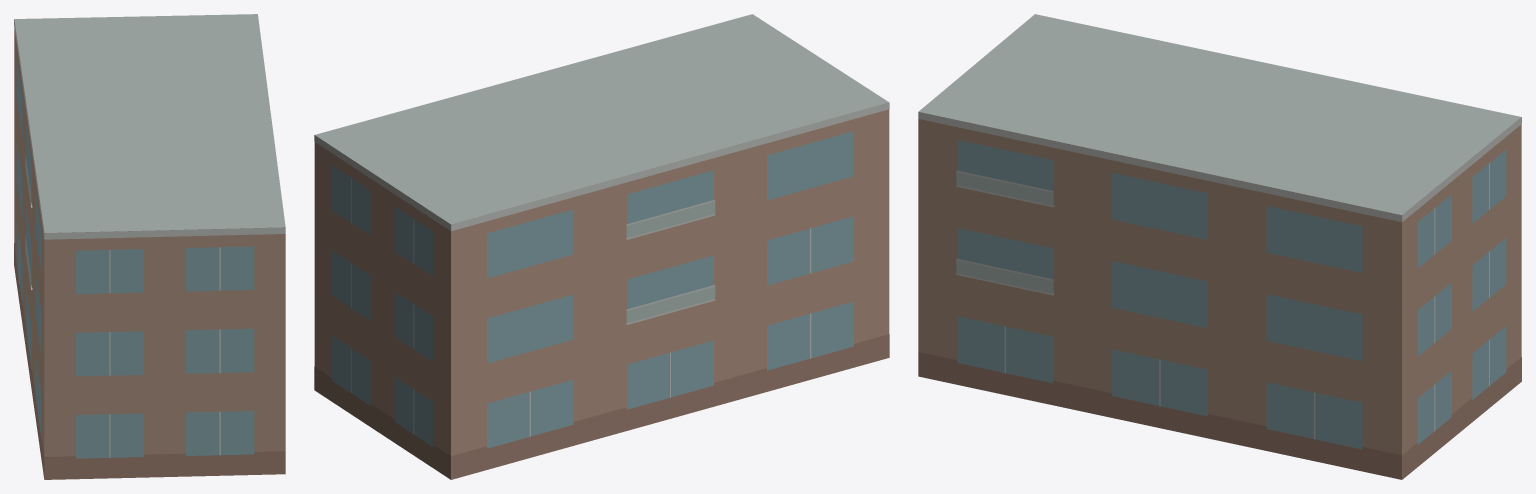
The model's file is survey-upis-32697225.glb.
3 views of the same model, side by side, from view 1: azimuth 30°, elevation 25°; view 2: azimuth 150°, elevation 25°; view 3: azimuth 270°, elevation 25° (orthographic). The views are drawn at different scales.
Visible parts, largest first — view 1: survey-upis-32697225.tmp; view 2: survey-upis-32697225.tmp; view 3: survey-upis-32697225.tmp.
Part boxes in pixels (x1,y1,x2,y2): survey-upis-32697225.tmp: (14, 14, 285, 479); survey-upis-32697225.tmp: (314, 14, 889, 479); survey-upis-32697225.tmp: (918, 14, 1521, 479).
Bounding box in the file's own units: 14.93 × 9.15 × 18.92.
